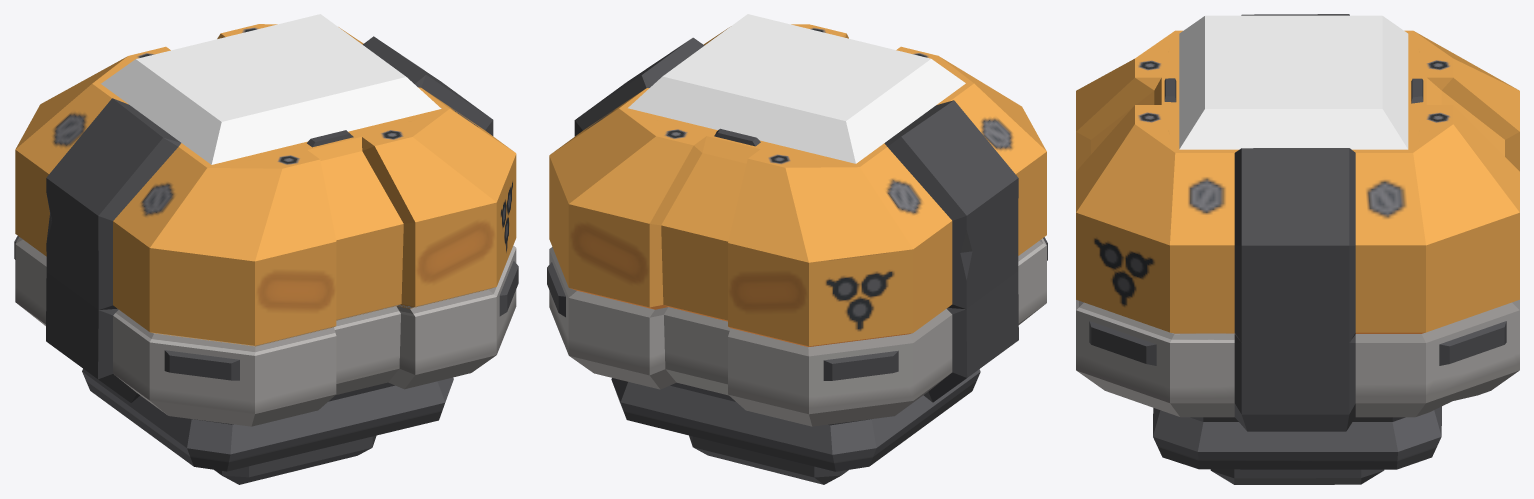
Rendered from SM_Prop_Hover_Light_07.fbx.
3 renders of one model, left to right at view 1: azimuth 30°, elevation 25°; view 2: azimuth 150°, elevation 25°; view 3: azimuth 270°, elevation 25°, orthographic. The views are drawn at different scales.
Parts seen in each view (by area): view 1: SM_Prop_Hover_Light_07; view 2: SM_Prop_Hover_Light_07; view 3: SM_Prop_Hover_Light_07.
Part boxes in pixels (x1=…): SM_Prop_Hover_Light_07: x1=14, y1=14, x2=518, y2=484; SM_Prop_Hover_Light_07: x1=547, y1=14, x2=1047, y2=484; SM_Prop_Hover_Light_07: x1=1076, y1=14, x2=1519, y2=484.
Size of the model in its own units: 47.46 by 43.65 by 44.62.
